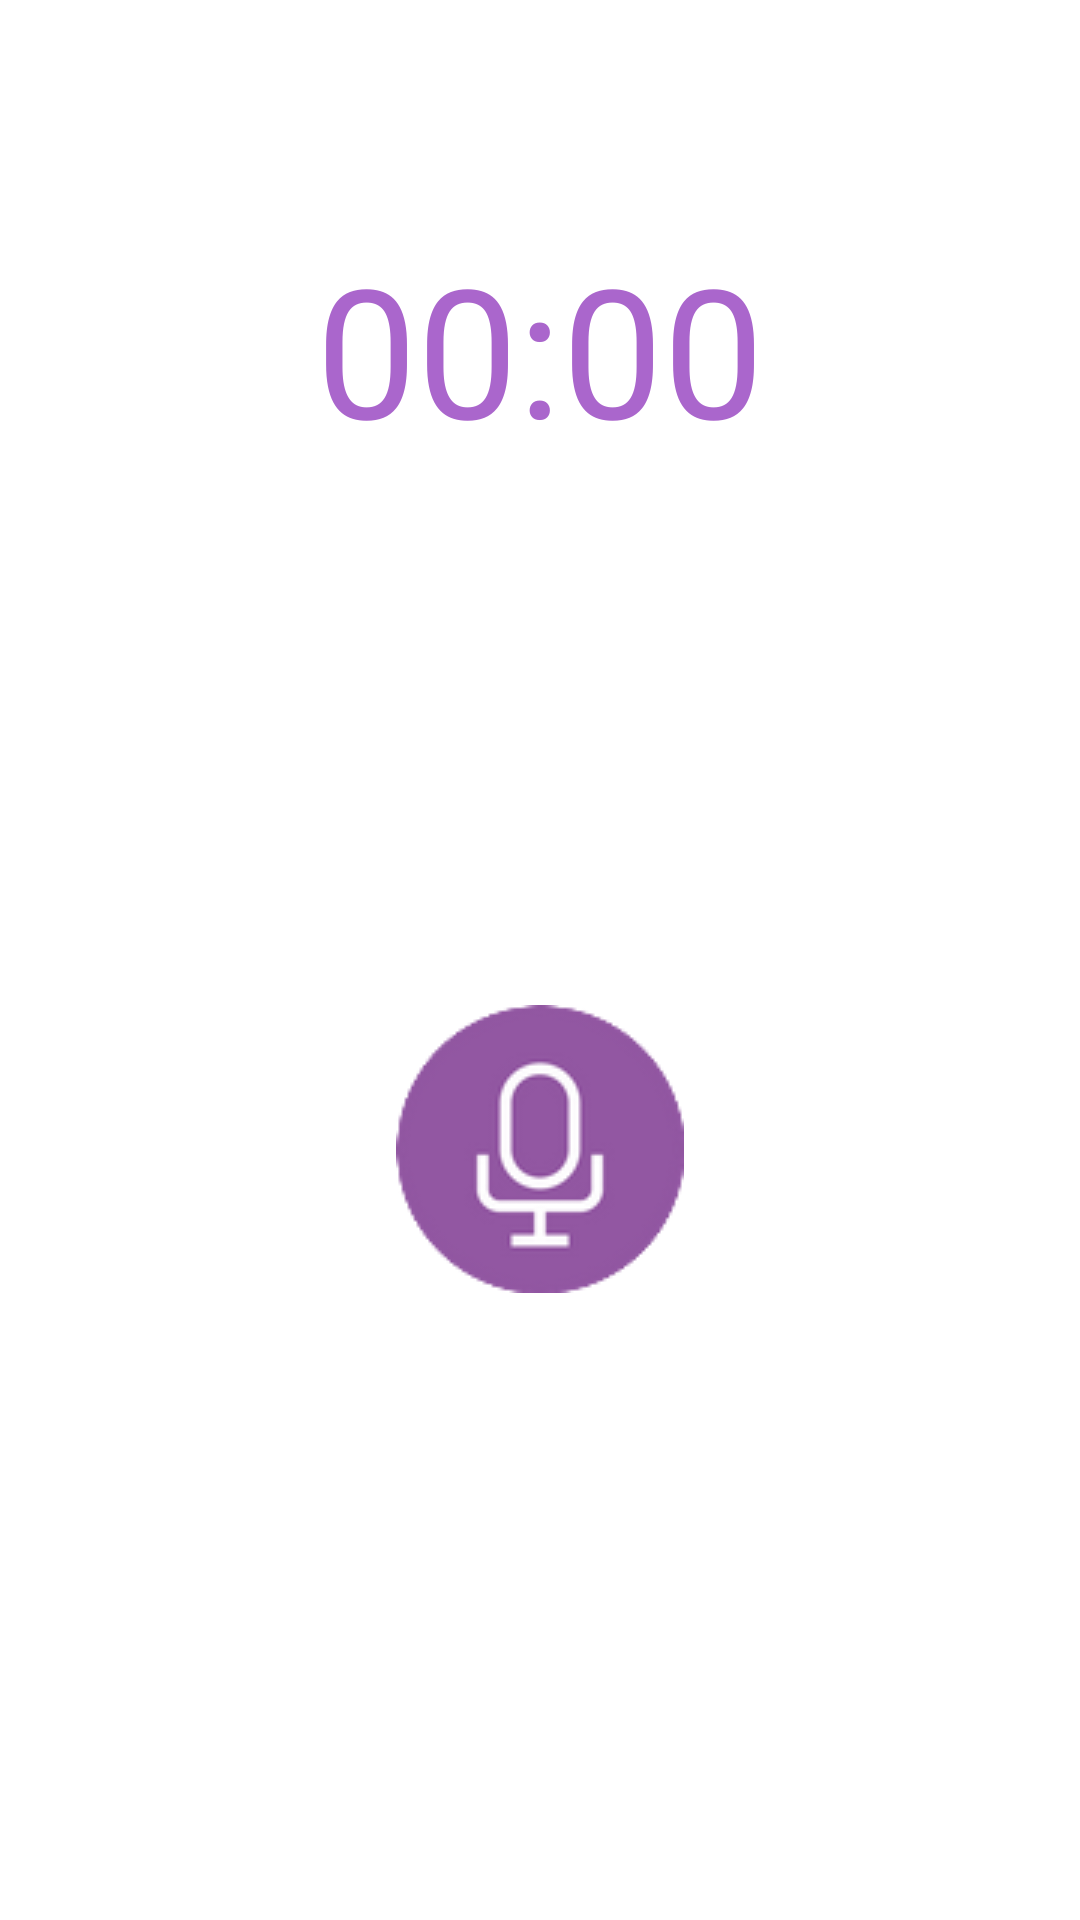

Point at icon controls on the screen. Image size 1080px×1920px, points as (x=x, y=y).
rec: (x=540, y=1149)
